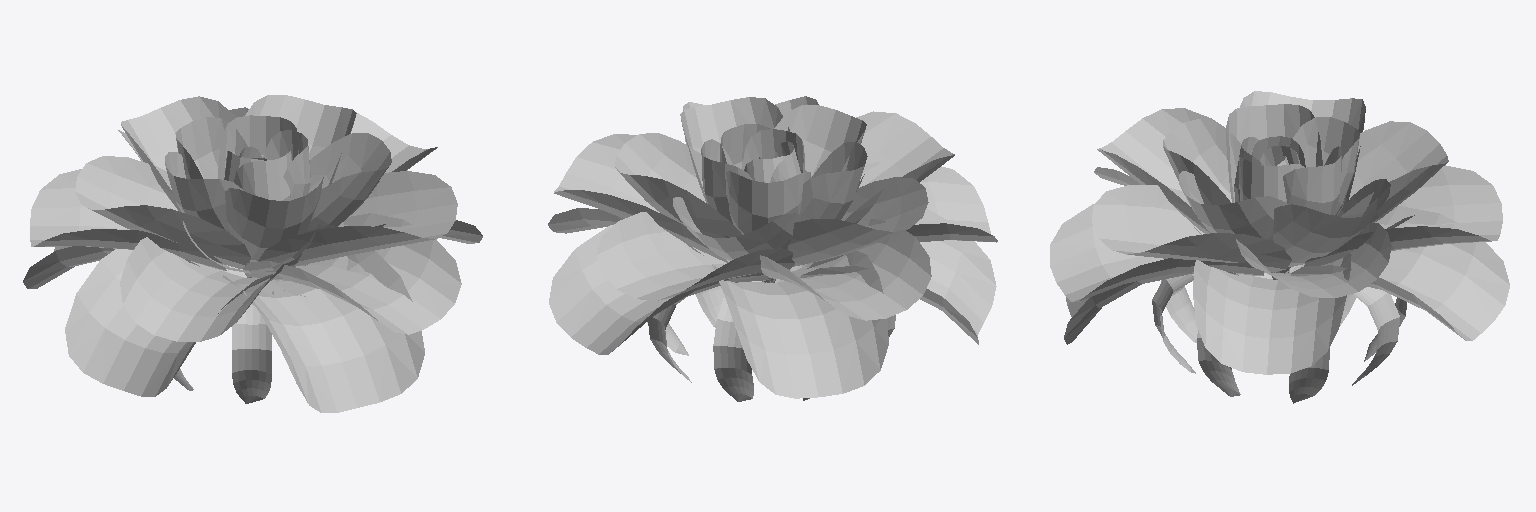
File: FlowerTopModel_03_seq_0046.obj
The picture shows the model from 3 angles: view 1: azimuth 30°, elevation 25°; view 2: azimuth 150°, elevation 25°; view 3: azimuth 270°, elevation 25°; orthographic projection.
Visible parts, largest first — view 1: FlowerTopModel_03; view 2: FlowerTopModel_03; view 3: FlowerTopModel_03.
Boxes of the visible parts, box(x1,y1,x2,y2) form: FlowerTopModel_03: box(23, 95, 482, 412); FlowerTopModel_03: box(548, 96, 997, 401); FlowerTopModel_03: box(1050, 91, 1509, 403).
Size of the model in its own units: 930 by 504 by 934.